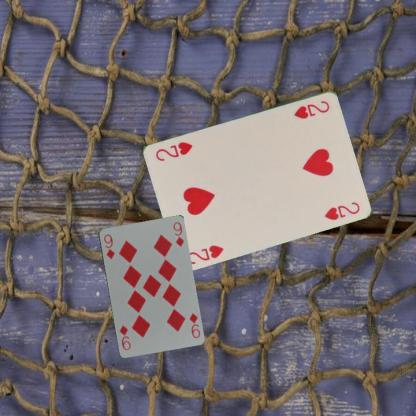2h: (184, 242, 226, 265), (292, 98, 331, 120)
9d: (101, 232, 116, 260), (187, 310, 201, 339)
